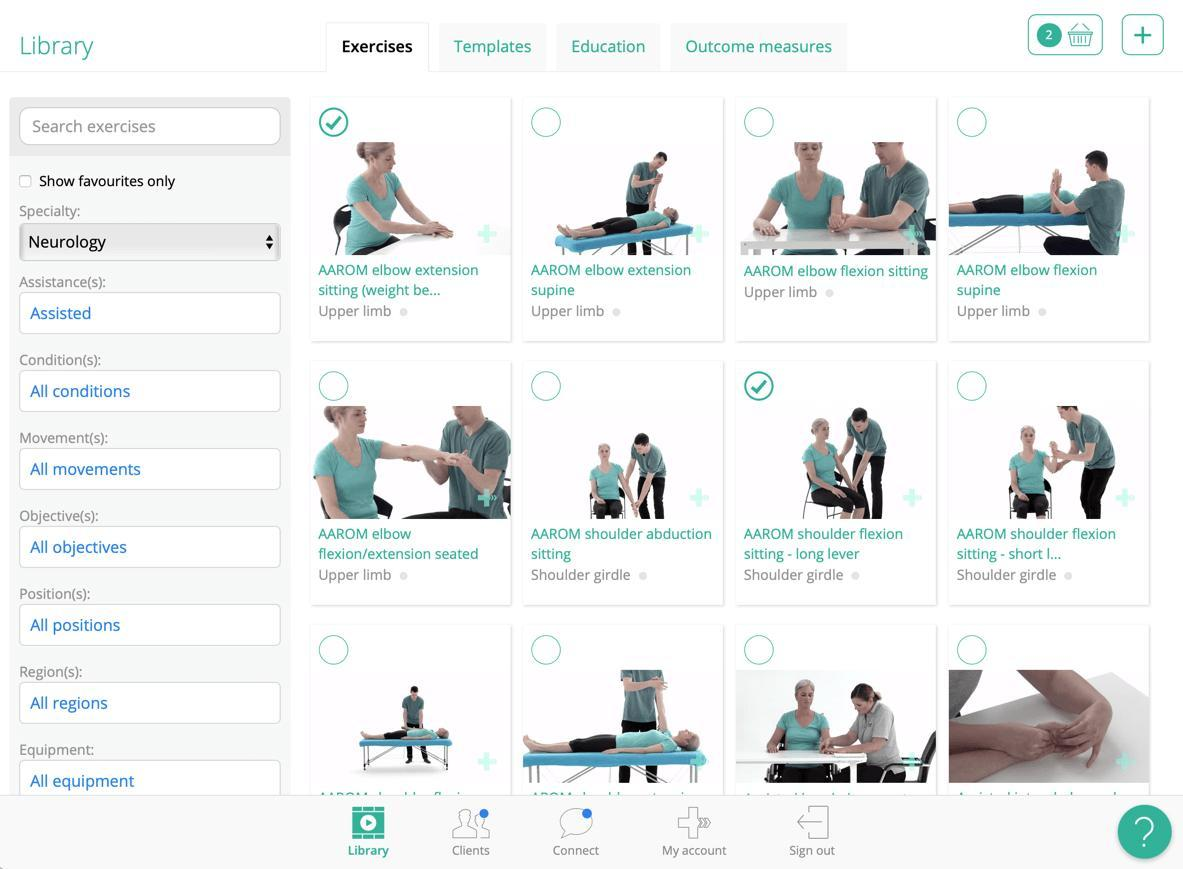button: (670, 24, 850, 72), (439, 21, 546, 73), (557, 23, 660, 72), (329, 24, 429, 69), (1025, 13, 1105, 58)
checkbox: (953, 368, 992, 406), (318, 634, 354, 671), (743, 109, 780, 143), (319, 108, 354, 143), (955, 105, 989, 141), (741, 634, 778, 667), (531, 368, 564, 402), (532, 108, 567, 140), (530, 635, 562, 670), (319, 370, 353, 402), (744, 371, 775, 403), (956, 634, 988, 665), (18, 173, 36, 192)
dropdown: (22, 222, 281, 262)
icon: (1121, 807, 1174, 861), (1122, 14, 1164, 56), (795, 804, 835, 847), (452, 805, 496, 843), (555, 805, 599, 842), (674, 805, 717, 842), (351, 806, 390, 841)
input: (19, 372, 280, 415), (19, 605, 280, 647), (21, 293, 281, 335), (21, 450, 282, 491), (22, 528, 281, 568), (22, 685, 281, 724), (22, 763, 283, 799), (21, 109, 280, 145)
